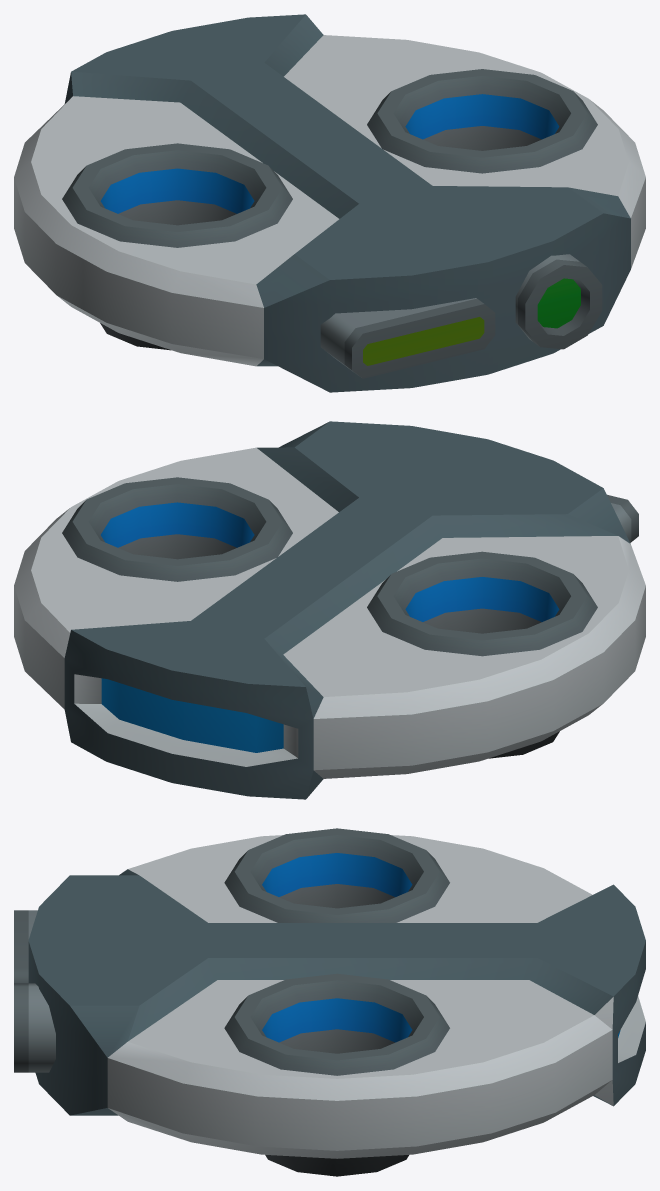
Rendered from Drone_007.fbx.
3 views of the same model, one above another, from view 1: azimuth 30°, elevation 25°; view 2: azimuth 150°, elevation 25°; view 3: azimuth 270°, elevation 25° (orthographic). The views are drawn at different scales.
Parts seen in each view (by area): view 1: Drone_007; view 2: Drone_007; view 3: Drone_007.
Boxes of the visible parts, box(x1,y1,x2,y2) form: Drone_007: box(14, 14, 645, 392); Drone_007: box(14, 421, 645, 799); Drone_007: box(14, 828, 645, 1176).
Size of the model in its own units: 56 by 57.32 by 13.62.
